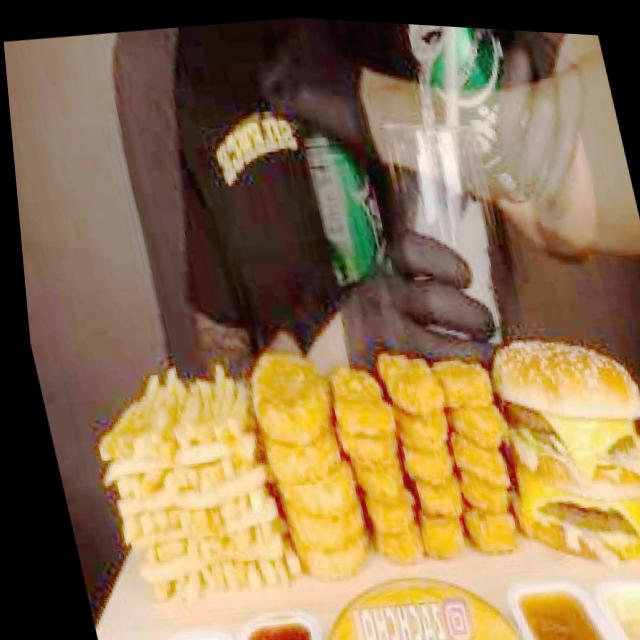burger: (477, 324, 640, 578)
chicken_nuggets: (247, 349, 370, 587), (430, 358, 531, 559), (325, 366, 423, 571), (380, 353, 475, 562), (241, 345, 336, 449), (274, 464, 358, 524), (262, 430, 345, 489), (327, 364, 394, 437), (378, 349, 443, 419), (450, 429, 519, 491), (284, 507, 367, 557), (294, 537, 375, 586), (463, 508, 524, 563), (435, 357, 497, 411), (458, 467, 518, 517), (451, 403, 507, 454), (363, 491, 420, 538), (392, 409, 451, 454), (419, 515, 472, 565), (343, 430, 401, 475), (373, 525, 429, 571), (353, 462, 409, 506), (412, 478, 467, 522), (402, 446, 457, 489)
drink: (374, 114, 527, 357)
french fries: (81, 358, 296, 617)
ketchup: (512, 577, 610, 640), (238, 617, 315, 640)
